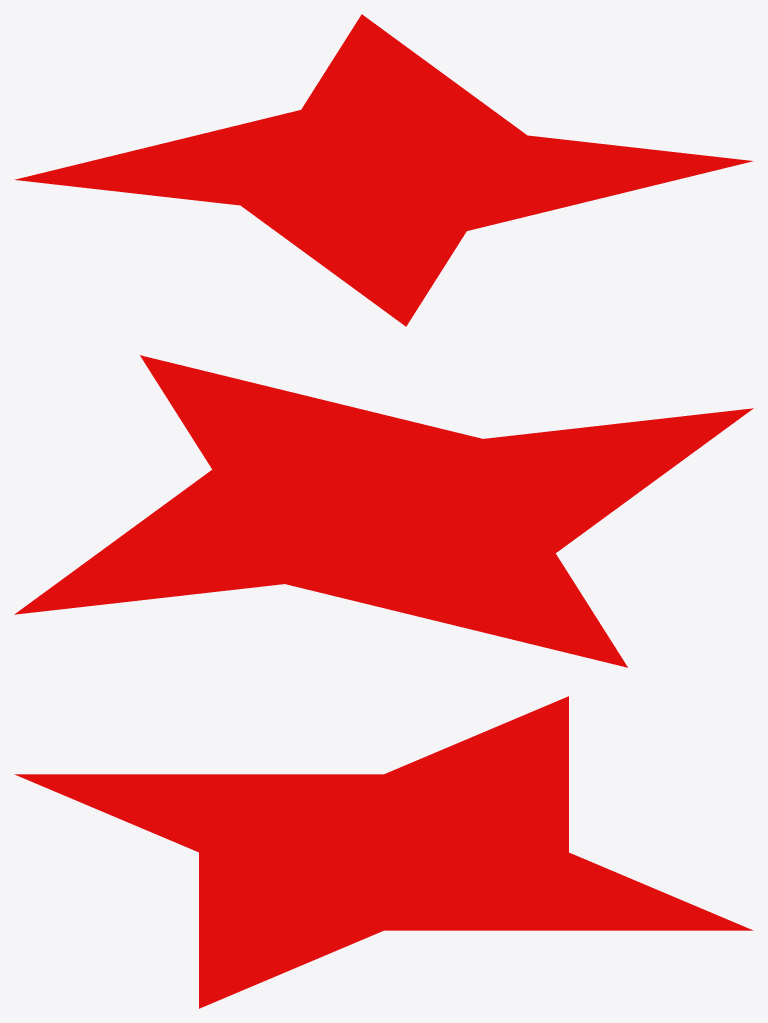
The model's file is ThrowingStar.dae.
3 renders of one model, top to bottom at view 1: azimuth 30°, elevation 25°; view 2: azimuth 150°, elevation 25°; view 3: azimuth 270°, elevation 25°, orthographic. The views are drawn at different scales.
Parts seen in each view (by area): view 1: SketchUp; view 2: SketchUp; view 3: SketchUp.
Boxes of the visible parts, box(x1,y1,x2,y2) form: SketchUp: box(14, 14, 753, 326); SketchUp: box(14, 355, 753, 667); SketchUp: box(14, 696, 753, 1008).
Size of the model in its own units: 78.74 by 78.74 by 0.
